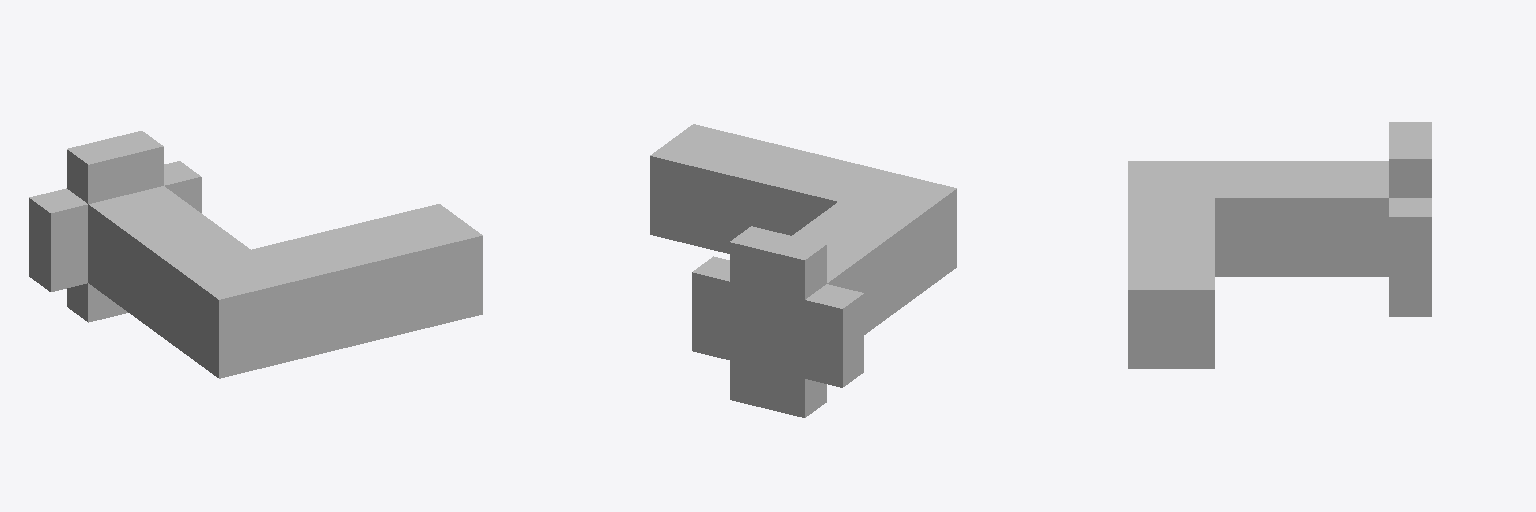
File: Pipe Corner.obj
3 views of the same model, side by side, from view 1: azimuth 30°, elevation 25°; view 2: azimuth 150°, elevation 25°; view 3: azimuth 270°, elevation 25° (orthographic).
Size of the model in its own units: 8 by 4 by 7.